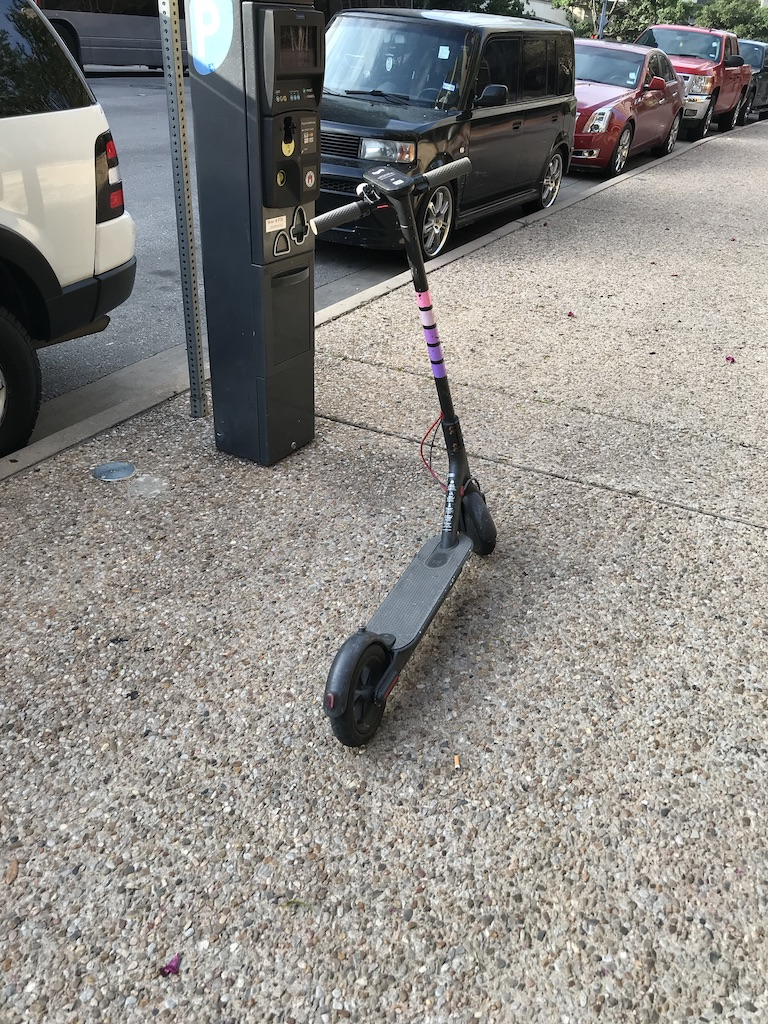scooter: (305, 152, 502, 748)
